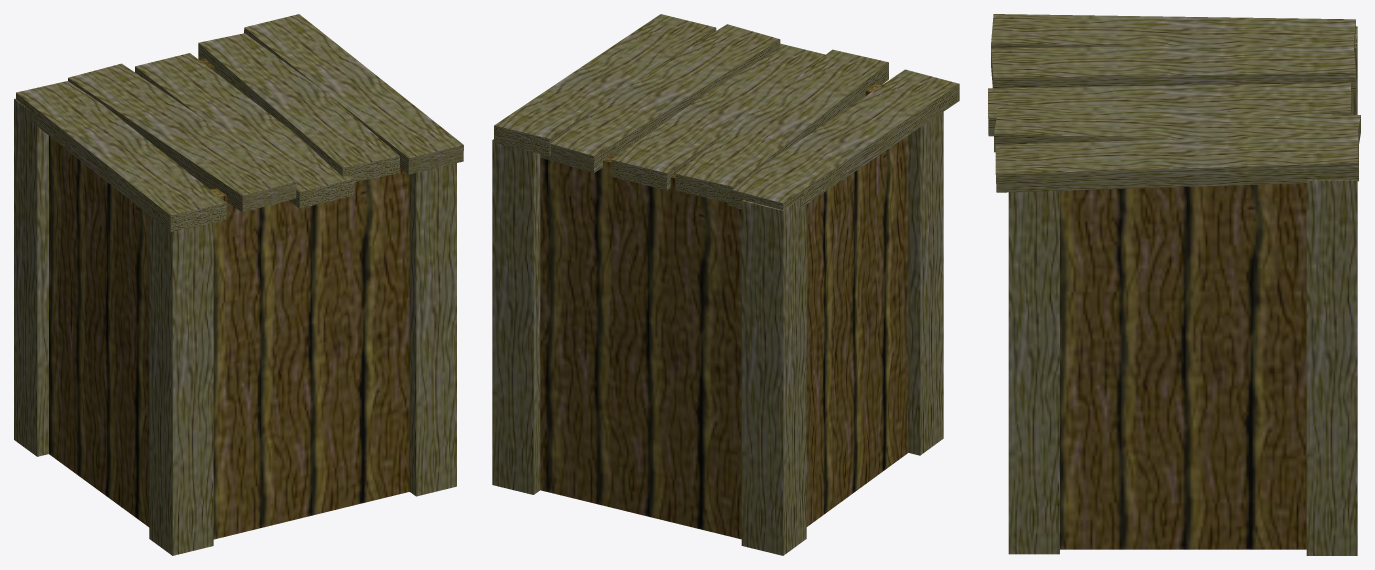
The model's file is storage.obj.
3 renders of one model, left to right at view 1: azimuth 30°, elevation 25°; view 2: azimuth 150°, elevation 25°; view 3: azimuth 270°, elevation 25°, orthographic. The views are drawn at different scales.
Parts seen in each view (by area): view 1: Box02, Duplicate03, Duplicate05, Duplicate08, Duplicate13, Duplicate06, Duplicate12, Duplicate09, Duplicate10, Duplicate11; view 2: Duplicate01, Duplicate03, Duplicate06, Duplicate07, Duplicate13, Duplicate05, Duplicate12, Duplicate10, Duplicate09, Duplicate11; view 3: Duplicate02, Duplicate07, Duplicate08, Duplicate09, Duplicate12, Duplicate10, Duplicate13, Duplicate11.
Boxes of the visible parts, x1,y1,x2,y2 form: Box02: (210, 168, 409, 539); Duplicate03: (49, 136, 149, 527); Duplicate05: (149, 215, 213, 555); Duplicate08: (409, 163, 456, 496); Duplicate13: (16, 81, 226, 232); Duplicate06: (14, 98, 48, 456); Duplicate12: (68, 63, 296, 212); Duplicate09: (244, 14, 463, 174); Duplicate10: (198, 33, 399, 181); Duplicate11: (135, 53, 354, 208); Duplicate01: (540, 153, 741, 539); Duplicate03: (806, 136, 908, 526); Duplicate06: (741, 198, 806, 555); Duplicate07: (492, 139, 540, 494); Duplicate13: (728, 69, 959, 209); Duplicate05: (908, 112, 943, 455); Duplicate12: (675, 49, 888, 202); Duplicate10: (540, 24, 780, 172); Duplicate09: (493, 14, 716, 155); Duplicate11: (611, 43, 825, 190); Duplicate02: (1060, 183, 1306, 549); Duplicate07: (1306, 179, 1357, 555); Duplicate08: (1008, 191, 1059, 554); Duplicate09: (995, 133, 1358, 192); Duplicate12: (991, 43, 1355, 91); Duplicate10: (994, 104, 1360, 152); Duplicate13: (991, 14, 1355, 49); Duplicate11: (988, 82, 1351, 136).
Size of the model in its own units: 24.35 by 27.94 by 24.08.
